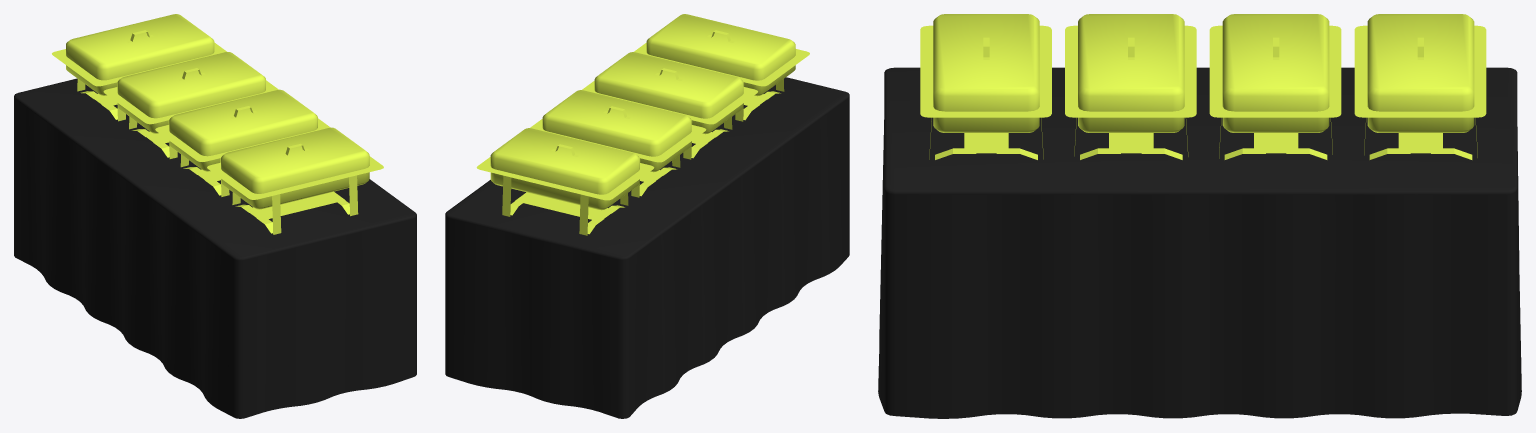
File: pantry-1.glb
3 views of the same model, side by side, from view 1: azimuth 30°, elevation 25°; view 2: azimuth 150°, elevation 25°; view 3: azimuth 270°, elevation 25° (orthographic). The views are drawn at different scales.
Parts seen in each view (by area): view 1: Cube.1038_Cube.001; view 2: Cube.1038_Cube.001; view 3: Cube.1038_Cube.001.
Part boxes in pixels (left/top/right/bottom): Cube.1038_Cube.001: left=14, top=14, right=416, bottom=418; Cube.1038_Cube.001: left=445, top=14, right=849, bottom=418; Cube.1038_Cube.001: left=878, top=14, right=1521, bottom=418.
Size of the model in its own units: 2.05 by 2.31 by 4.3.
